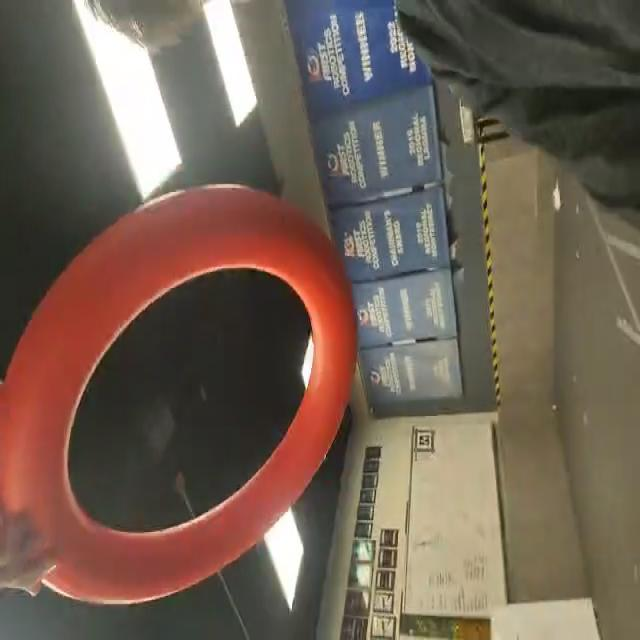note: (0, 179, 359, 623)
